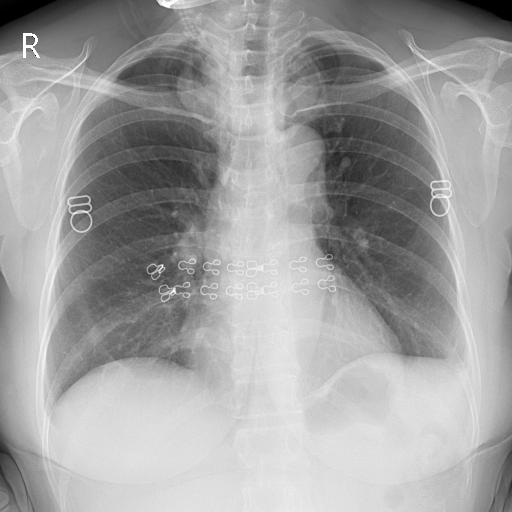Aortic enlargement: (238, 92, 298, 157)
Cardiomegaly: (67, 301, 289, 361)
Pleural effusion: (423, 324, 458, 369)
Pleural thickening: (423, 324, 458, 369)
